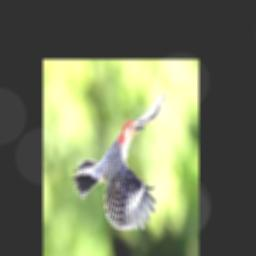Woodpecker: (72, 90, 165, 230)
